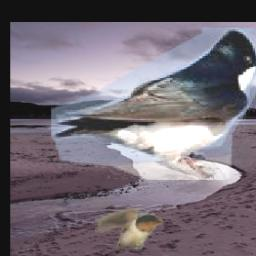Swallow: (52, 28, 256, 180), (95, 207, 163, 250)
